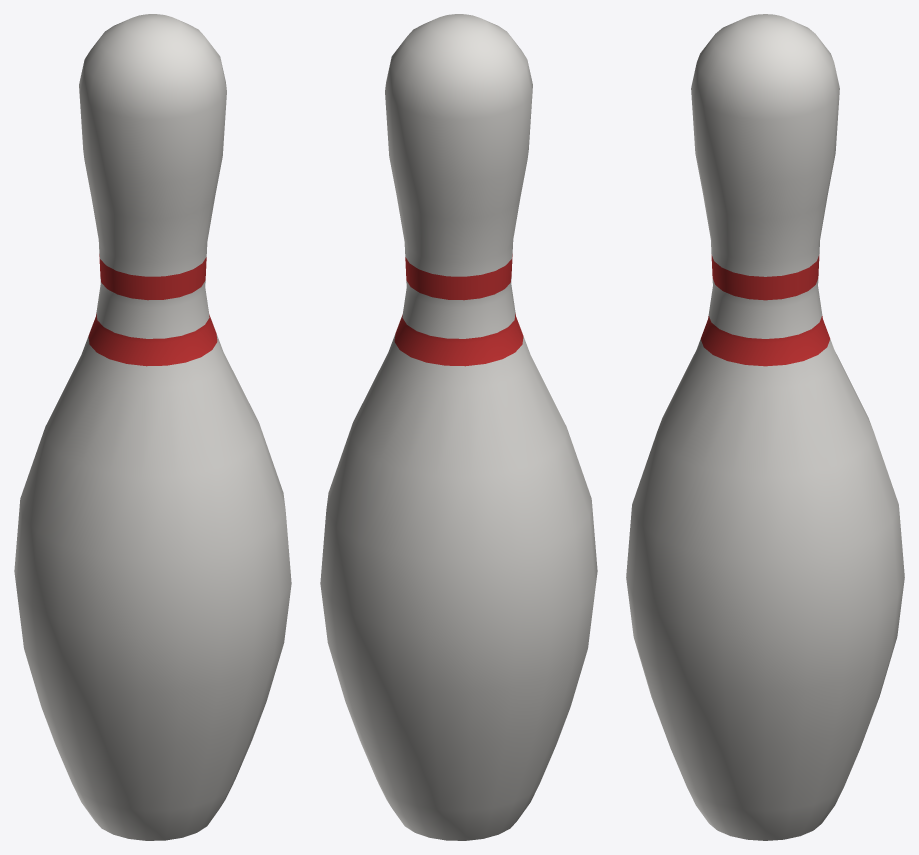
File: pin.glb
3 renders of one model, left to right at view 1: azimuth 30°, elevation 25°; view 2: azimuth 150°, elevation 25°; view 3: azimuth 270°, elevation 25°, orthographic.
Parts seen in each view (by area): view 1: pin; view 2: pin; view 3: pin.
Boxes of the visible parts, bbox=[...] form: pin: bbox=[14, 14, 291, 840]; pin: bbox=[320, 14, 597, 840]; pin: bbox=[626, 14, 904, 840].
Size of the model in its own units: 0.1211 by 0.381 by 0.1211.
